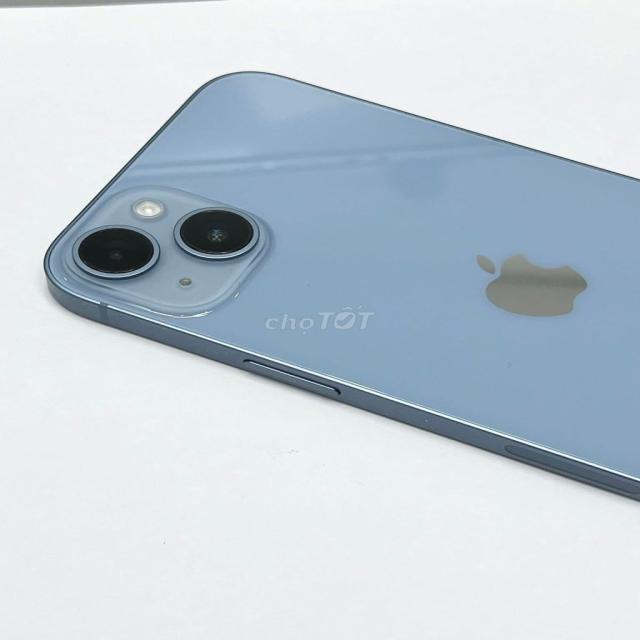gen_14: (29, 63, 640, 505)
